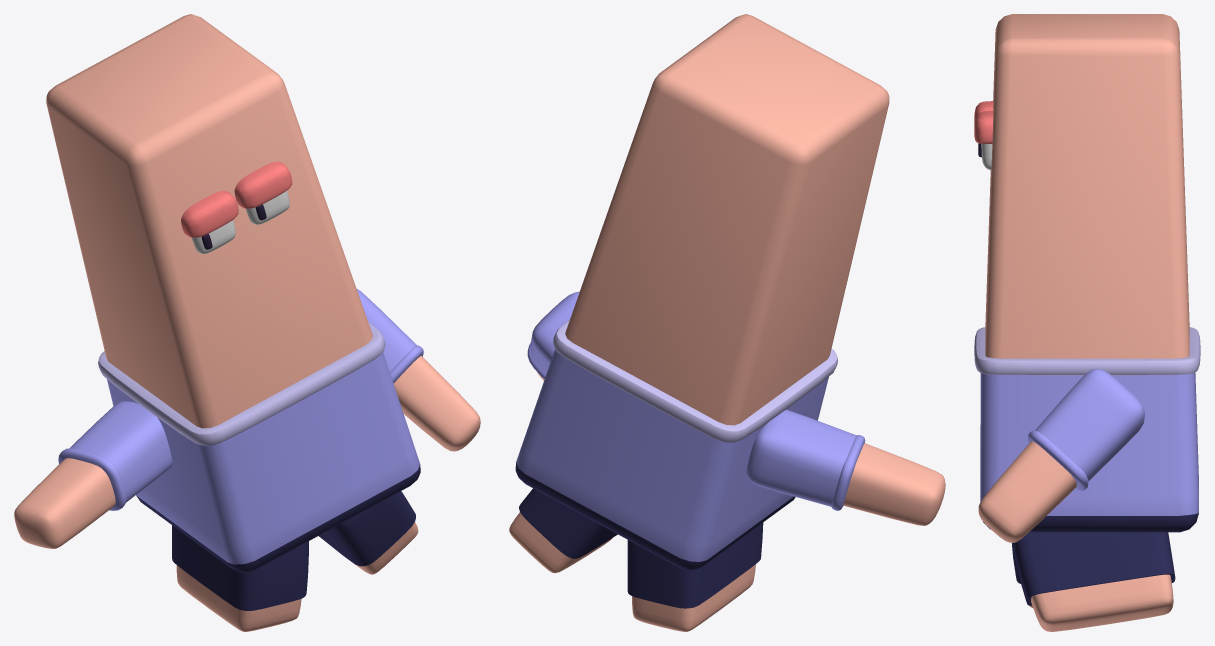
The model's file is cute_cube_like_cartoon_character.glb.
The picture shows the model from 3 angles, left to right: view 1: azimuth 30°, elevation 25°; view 2: azimuth 150°, elevation 25°; view 3: azimuth 270°, elevation 25°; orthographic projection. The views are drawn at different scales.
Visible parts, largest first — view 1: Cube.016_9, Cube.021_7, Cube.022_5, Cube.017_1, Cube.020_3; view 2: Cube.016_9, Cube.021_7, Cube.022_5, Cube.020_3, Cube.017_1; view 3: Cube.016_9, Cube.020_3, Cube.017_1.
Boxes of the visible parts, left/top/right/bottom form: Cube.016_9: left=46, top=14, right=420, bottom=573; Cube.021_7: left=14, top=401, right=172, bottom=548; Cube.022_5: left=172, top=525, right=308, bottom=631; Cube.017_1: left=357, top=289, right=480, bottom=451; Cube.020_3: left=319, top=491, right=418, bottom=574; Cube.016_9: left=515, top=14, right=889, bottom=570; Cube.021_7: left=746, top=409, right=945, bottom=525; Cube.022_5: left=627, top=522, right=763, bottom=631; Cube.020_3: left=509, top=488, right=617, bottom=573; Cube.017_1: left=527, top=291, right=579, bottom=380; Cube.016_9: left=974, top=14, right=1200, bottom=532; Cube.020_3: left=1012, top=532, right=1175, bottom=631; Cube.017_1: left=978, top=368, right=1144, bottom=542.
Bounding box in the file's own units: 4.56 × 5.7 × 2.11.
